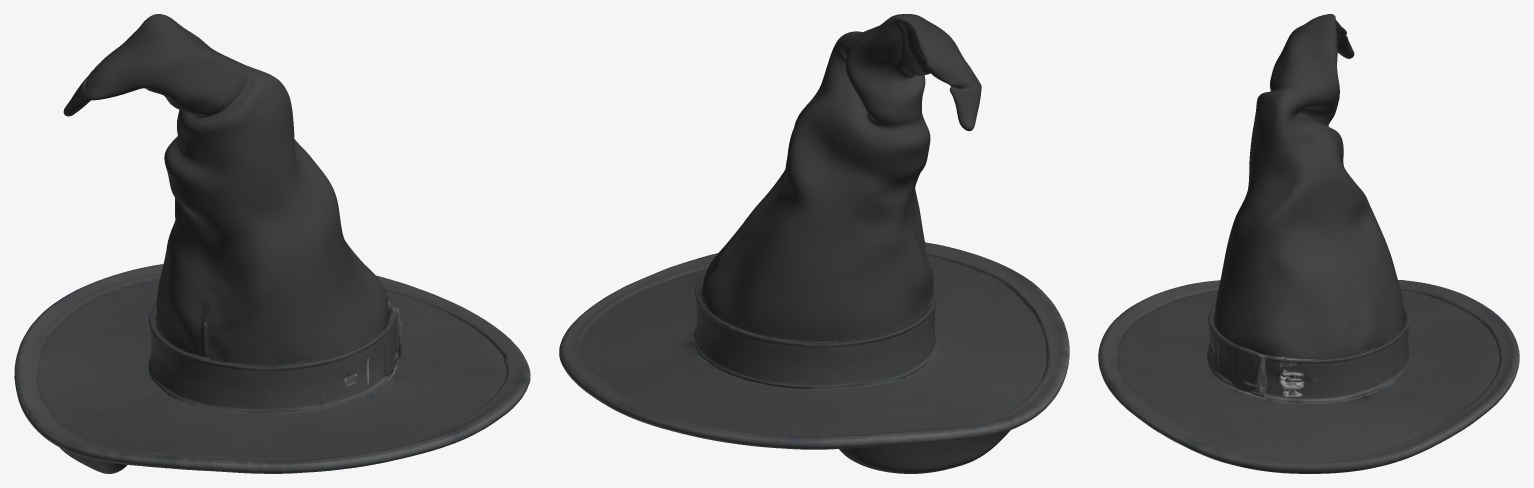
Rendered from detailed_realistic_model_sortinghat_15.glb.
3 views of the same model, side by side, from view 1: azimuth 30°, elevation 25°; view 2: azimuth 150°, elevation 25°; view 3: azimuth 270°, elevation 25° (orthographic). The views are drawn at different scales.
Parts seen in each view (by area): view 1: tripo_node_9f765b68-e529-422b-ae25-c009c7a9e474; view 2: tripo_node_9f765b68-e529-422b-ae25-c009c7a9e474; view 3: tripo_node_9f765b68-e529-422b-ae25-c009c7a9e474.
Boxes of the visible parts, box(x1,y1,x2,y2) form: tripo_node_9f765b68-e529-422b-ae25-c009c7a9e474: box(14, 14, 530, 473); tripo_node_9f765b68-e529-422b-ae25-c009c7a9e474: box(559, 14, 1069, 473); tripo_node_9f765b68-e529-422b-ae25-c009c7a9e474: box(1098, 14, 1519, 473).
Bounding box in the file's own units: 1 × 0.8965 × 0.9719.
Materials: 1 (1 with a texture image).
